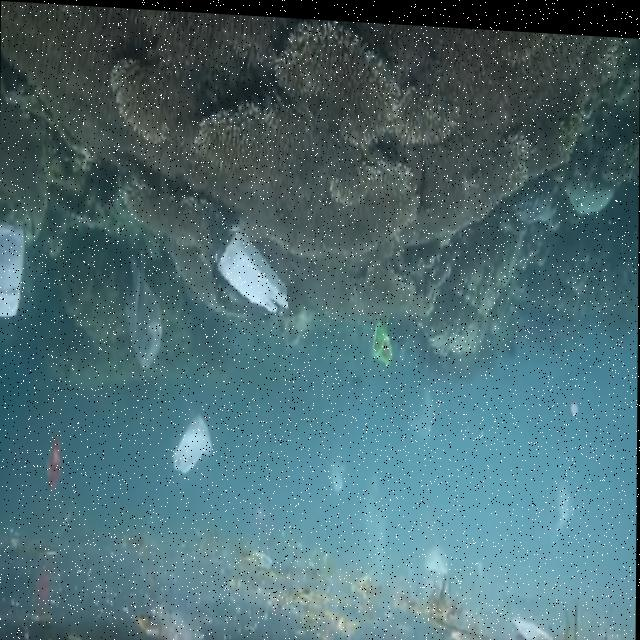litter: (215, 225, 286, 311)
